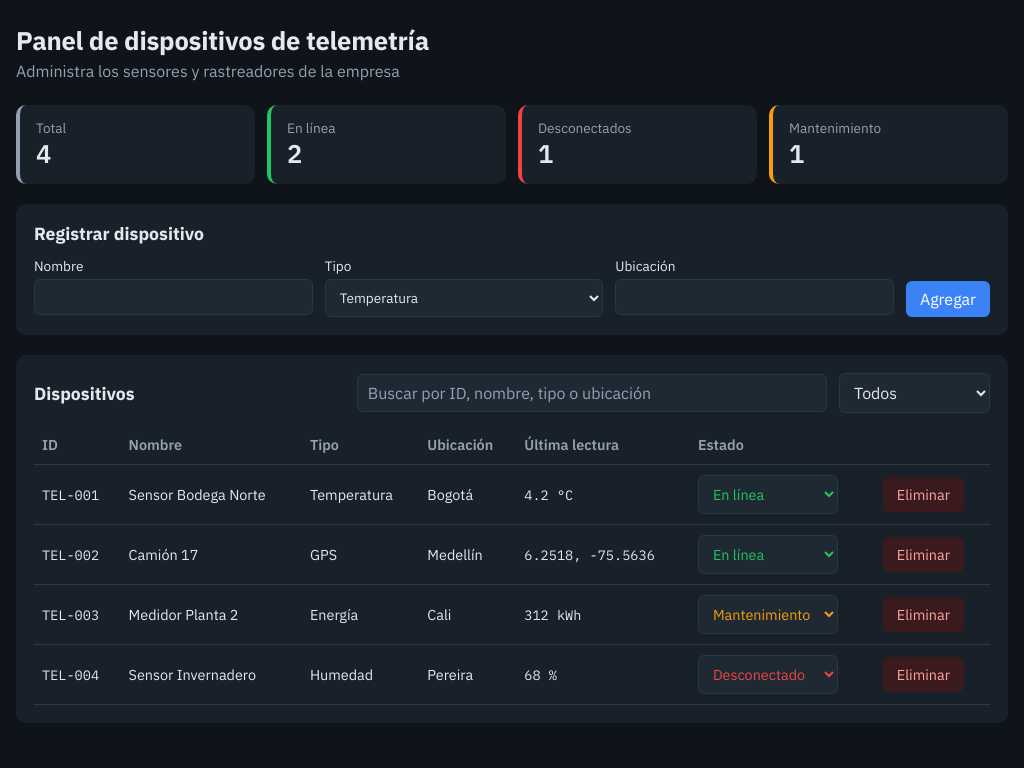
Test: App › filtra por estado
Select "Mantenimiento" in the dropdown named "Filtrar por estado" at (914, 393), box left=839, top=373, right=990, bottom=413
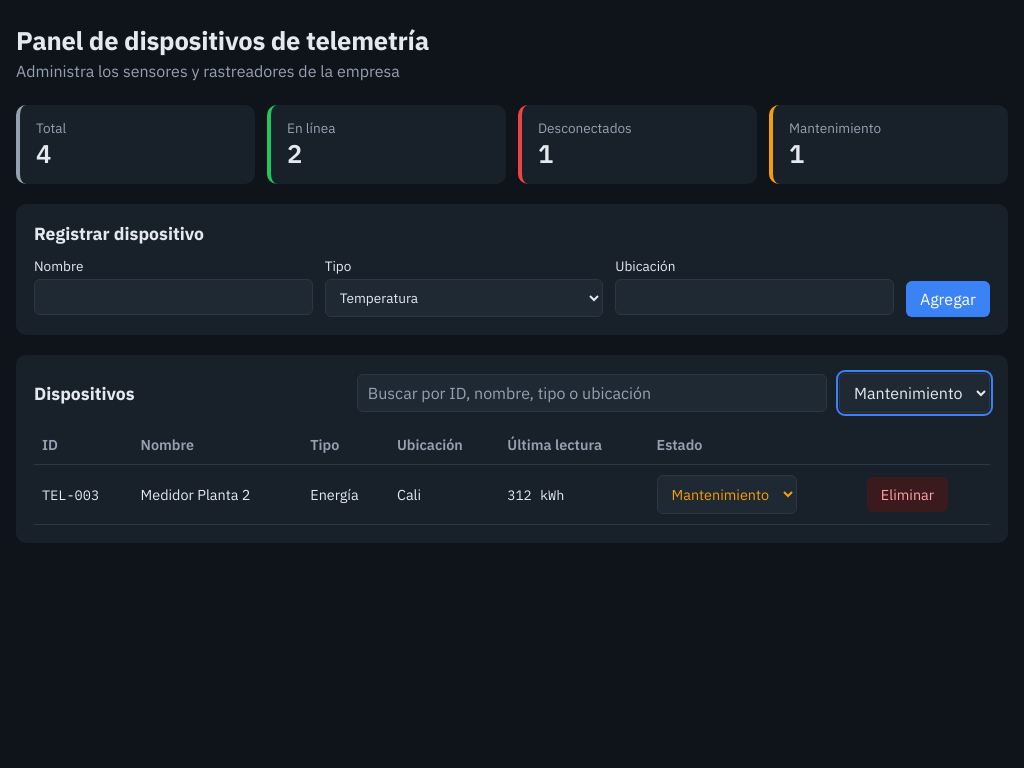
Expected: the text "Medidor Planta 2" is shown, left=132, top=464, right=302, bottom=524
Now the text "Camión 17" is gone
